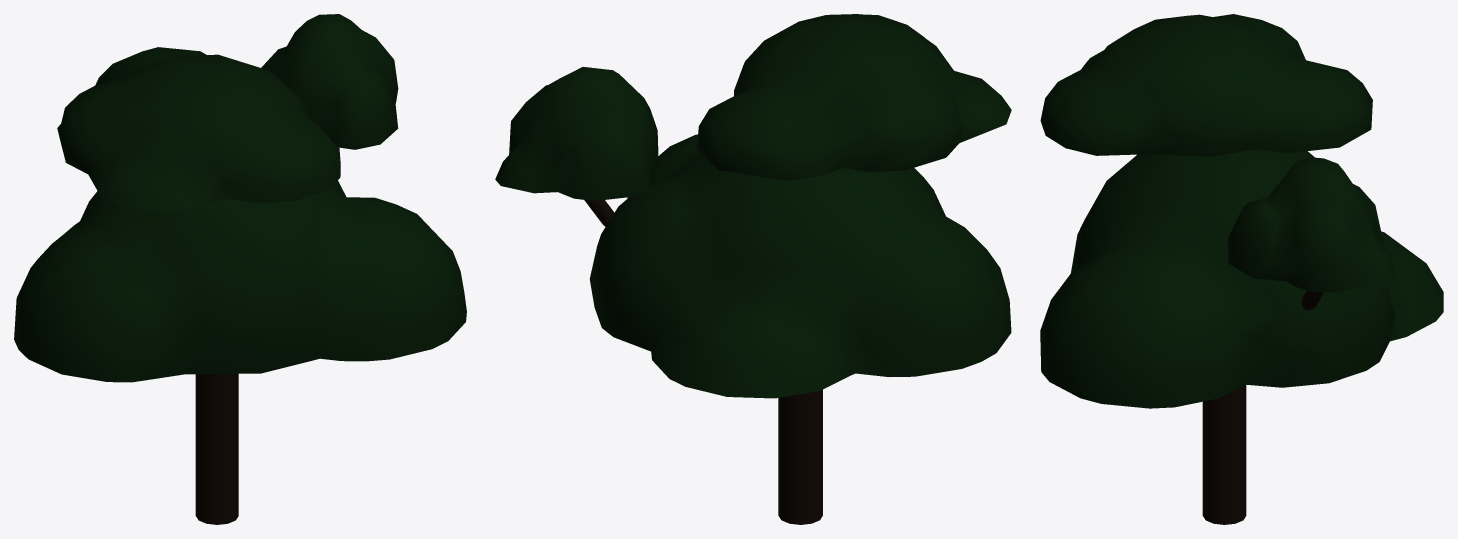
File: Prop_Tree_01.FBX
3 renders of one model, left to right at view 1: azimuth 30°, elevation 25°; view 2: azimuth 150°, elevation 25°; view 3: azimuth 270°, elevation 25°, orthographic. The views are drawn at different scales.
Visible parts, largest first — view 1: Prop_Tree_01; view 2: Prop_Tree_01; view 3: Prop_Tree_01.
Part boxes in pixels (x1,y1,x2,y2): Prop_Tree_01: (14, 14, 466, 524); Prop_Tree_01: (495, 14, 1011, 524); Prop_Tree_01: (1040, 14, 1443, 524).
Bounding box in the file's own units: 210 × 224 × 174.
